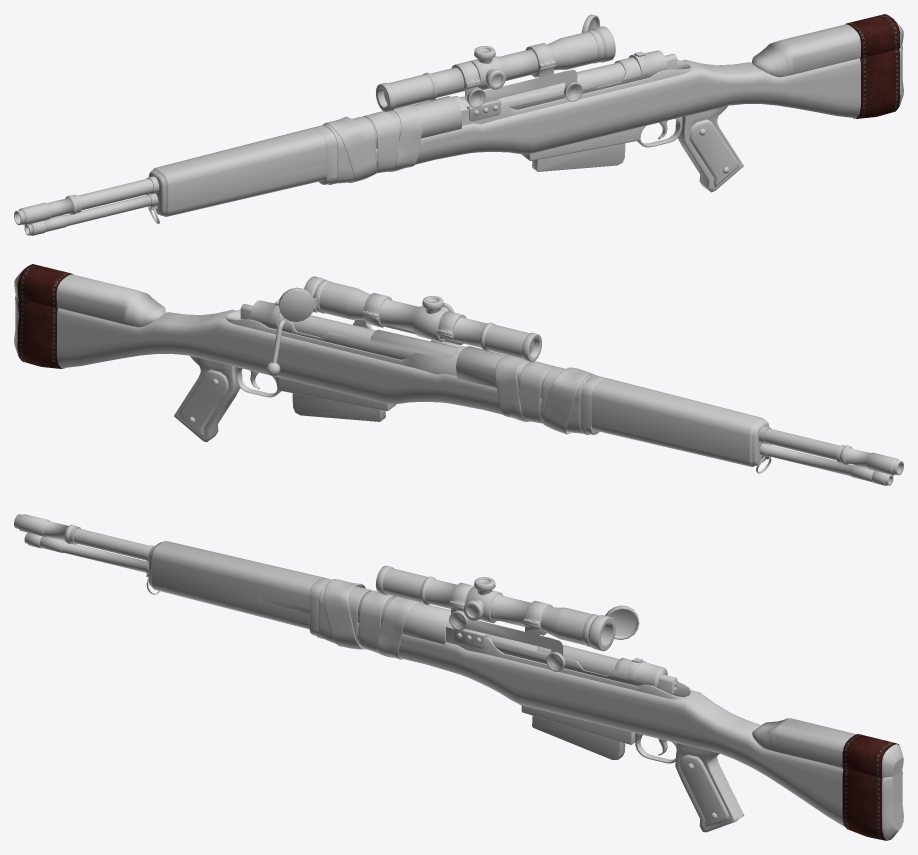
File: sniper (1).fbx
The picture shows the model from 3 angles, top to bottom: view 1: azimuth 30°, elevation 25°; view 2: azimuth 150°, elevation 25°; view 3: azimuth 330°, elevation 25°; orthographic projection.
Visible parts, largest first — view 1: arkaip; view 2: arkaip; view 3: arkaip.
Part boxes in pixels (bbox=[...]): arkaip: bbox=[14, 14, 903, 235]; arkaip: bbox=[14, 264, 903, 485]; arkaip: bbox=[14, 514, 903, 840].
Size of the model in its own units: 3.94 by 0.8252 by 0.2664.
